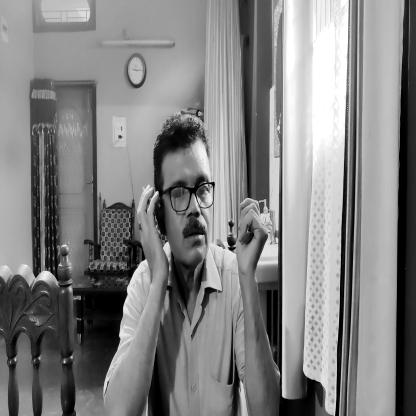Distracted: (152, 110, 218, 278)
